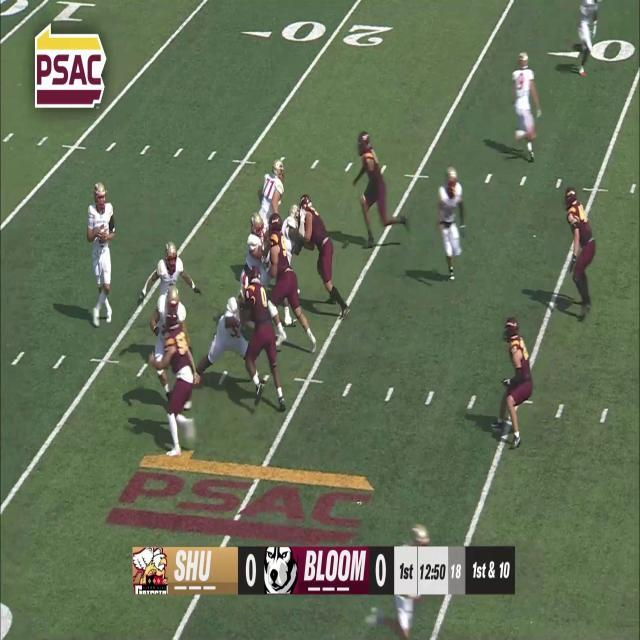football: (98, 226, 108, 248)
